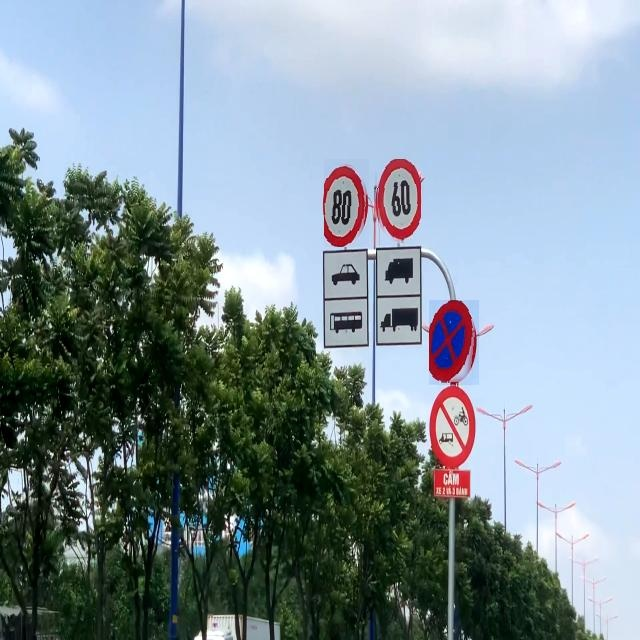bien_cam: (429, 300, 479, 385), (324, 159, 369, 247), (375, 159, 421, 245)
